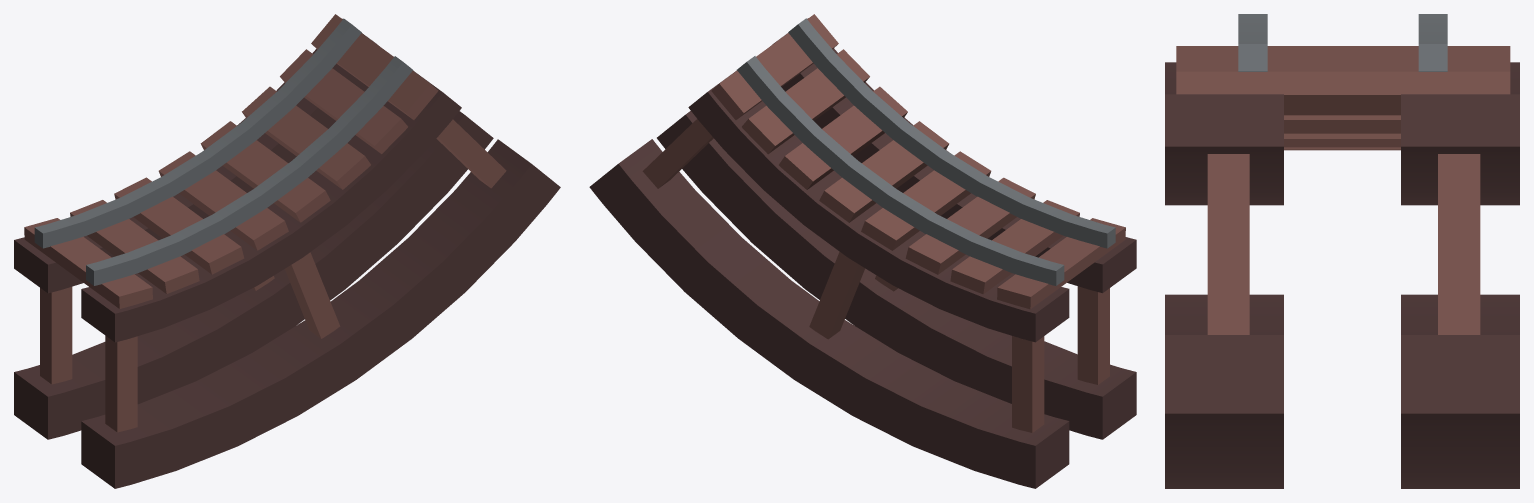
File: DarkRoseWoodMechSharp0_8545GaugeRise1.fbx
3 renders of one model, left to right at view 1: azimuth 30°, elevation 25°; view 2: azimuth 150°, elevation 25°; view 3: azimuth 270°, elevation 25°, orthographic. The views are drawn at different scales.
Visible parts, largest first — view 1: DarkRoseWoodMechSharp0_8545GaugeRise1; view 2: DarkRoseWoodMechSharp0_8545GaugeRise1; view 3: DarkRoseWoodMechSharp0_8545GaugeRise1.
Boxes of the visible parts, box(x1,y1,x2,y2) form: DarkRoseWoodMechSharp0_8545GaugeRise1: box(14, 14, 560, 488); DarkRoseWoodMechSharp0_8545GaugeRise1: box(589, 14, 1136, 488); DarkRoseWoodMechSharp0_8545GaugeRise1: box(1165, 14, 1519, 488).
Size of the model in its own units: 509 by 367 by 200.
